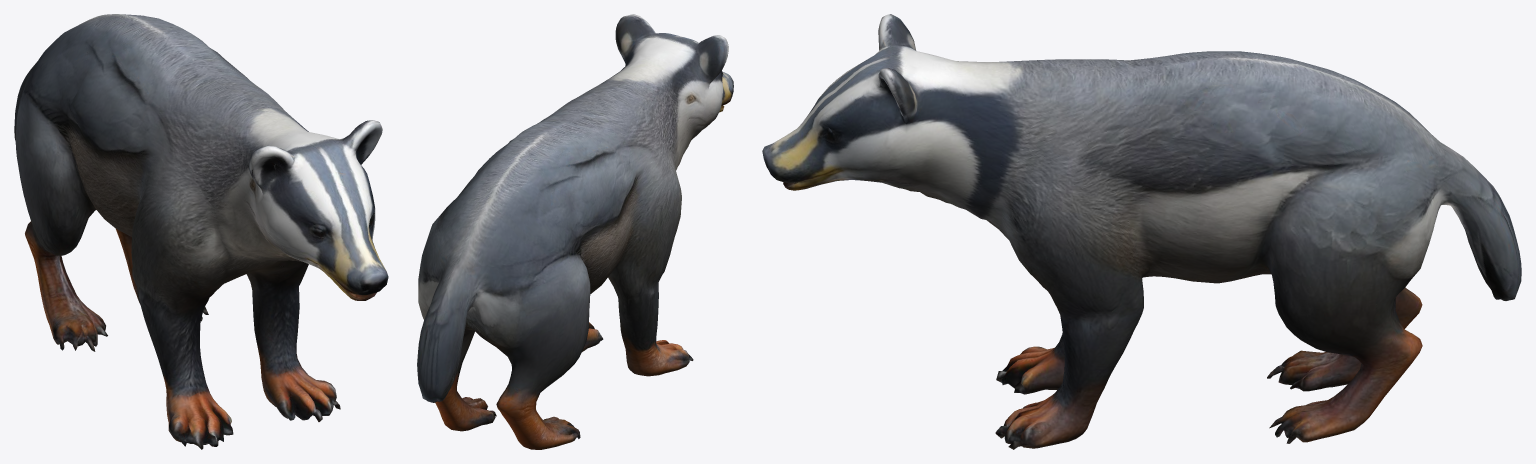
Rendered from badger.glb.
3 renders of one model, left to right at view 1: azimuth 30°, elevation 25°; view 2: azimuth 150°, elevation 25°; view 3: azimuth 270°, elevation 25°, orthographic. The views are drawn at different scales.
Size of the model in its own units: 0.5875 by 1.07 by 2.
1 material, 1 textured.
